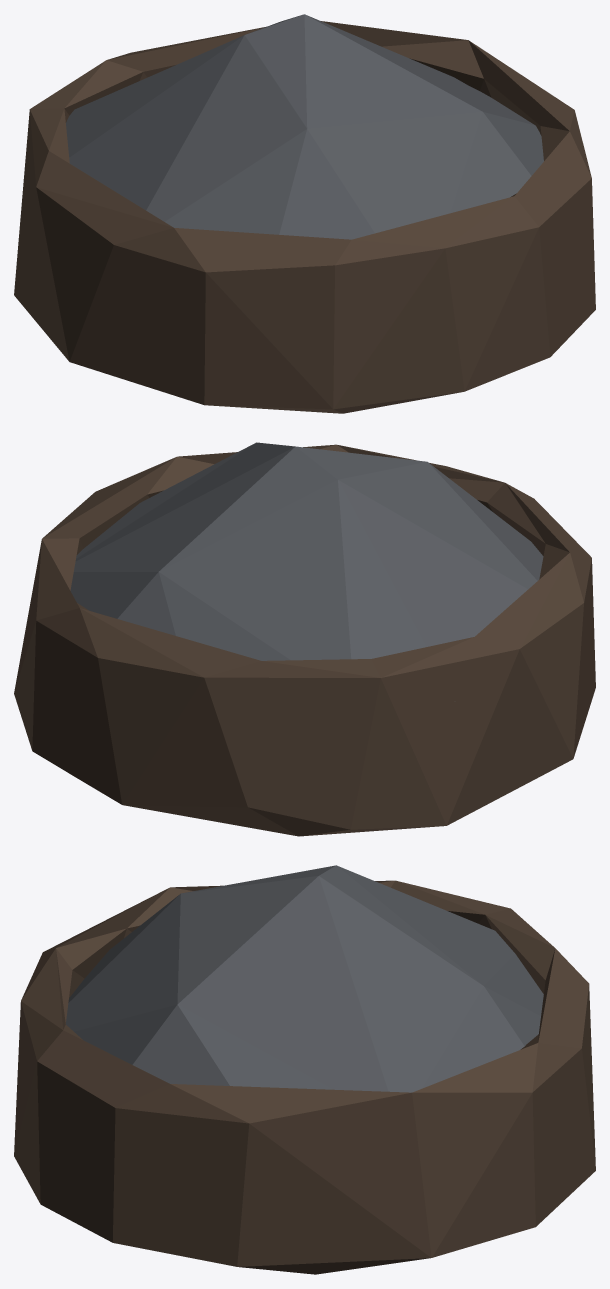
The model's file is big pepper plate.glb.
The picture shows the model from 3 angles, top to bottom: view 1: azimuth 30°, elevation 25°; view 2: azimuth 150°, elevation 25°; view 3: azimuth 270°, elevation 25°; orthographic projection. The views are drawn at different scales.
Parts seen in each view (by area): view 1: Cube.002, Cube.003; view 2: Cube.002, Cube.003; view 3: Cube.002, Cube.003.
Part boxes in pixels (x1,y1,x2,y2): Cube.002: (14,21,595,413); Cube.003: (66,14,543,239); Cube.002: (14,444,595,836); Cube.003: (70,442,543,660); Cube.002: (14,880,595,1274); Cube.003: (66,865,543,1092).
Bounding box in the file's own units: 0.3925 × 0.2202 × 0.3915.
